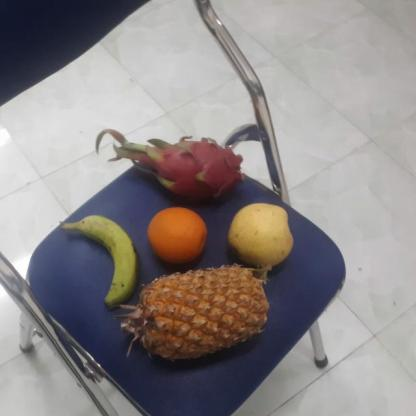banana: (80, 210, 138, 307)
orange: (145, 206, 209, 268)
pear: (227, 201, 294, 271)
pineapple: (138, 265, 270, 359)
pitaya: (137, 137, 243, 205)
